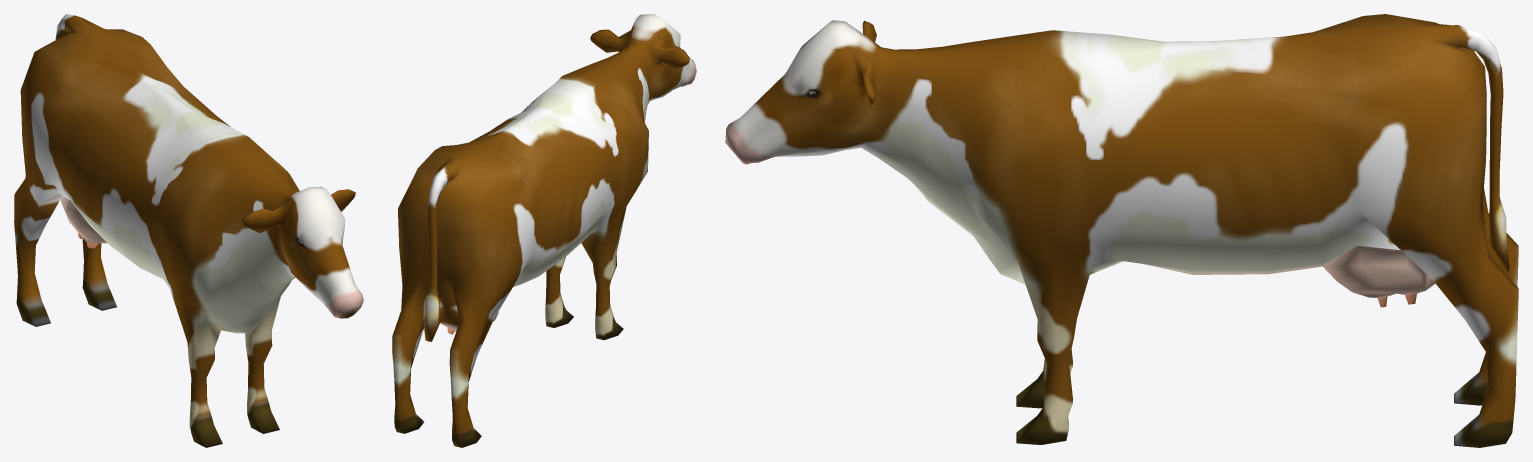
Rendered from cow.obj.
3 views of the same model, side by side, from view 1: azimuth 30°, elevation 25°; view 2: azimuth 150°, elevation 25°; view 3: azimuth 270°, elevation 25° (orthographic). The views are drawn at different scales.
Visible parts, largest first — view 1: cowmap; view 2: cowmap; view 3: cowmap.
Part boxes in pixels (x1,y1,x2,y2): cowmap: [14, 14, 363, 447]; cowmap: [392, 14, 696, 447]; cowmap: [725, 14, 1518, 447].
Bounding box in the file's own units: 7.54 × 16.58 × 30.2.
Materials: 1 (1 with a texture image).
